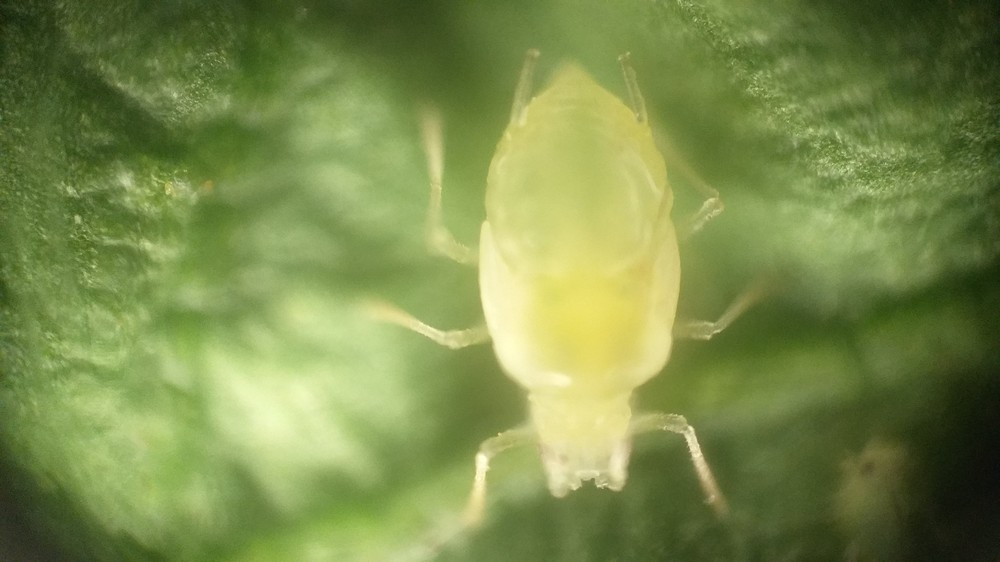Pulgon: (381, 45, 792, 546)
